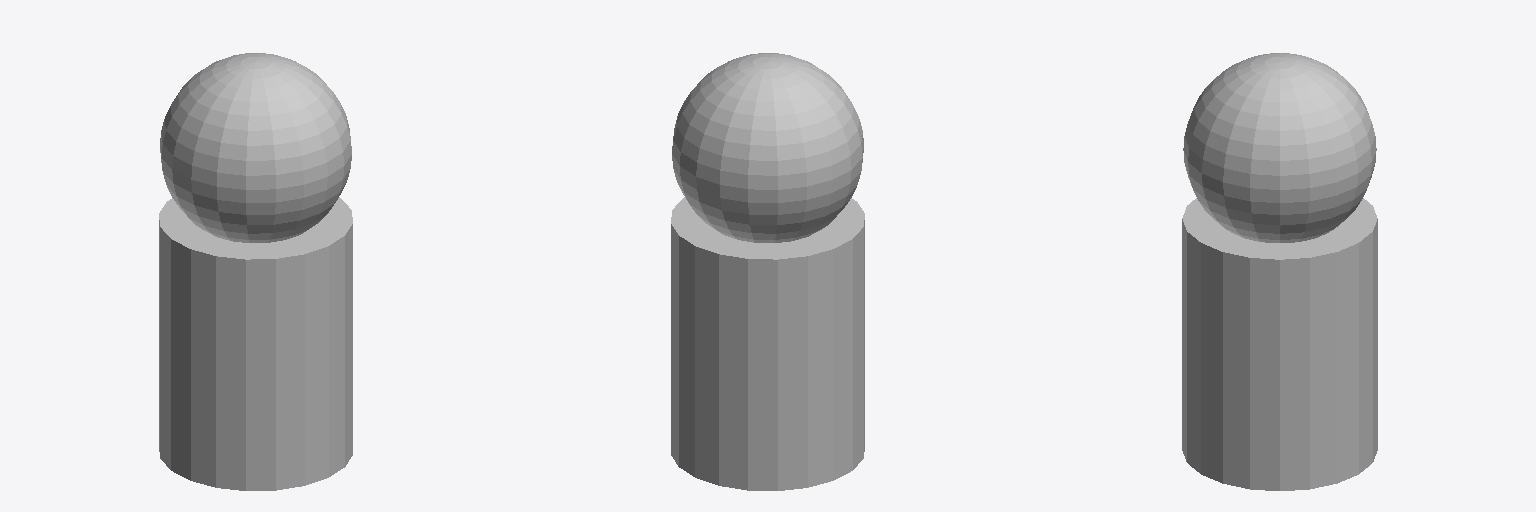
Rendered from Test_Agent.obj.
The picture shows the model from 3 angles: view 1: azimuth 30°, elevation 25°; view 2: azimuth 150°, elevation 25°; view 3: azimuth 270°, elevation 25°; orthographic projection.
Visible parts, largest first — view 1: pCylinder1, pSphere1; view 2: pCylinder1, pSphere1; view 3: pCylinder1, pSphere1.
Part boxes in pixels (x1,y1,x2,y2): pCylinder1: (159,197,352,490); pSphere1: (160,53,351,242); pCylinder1: (671,197,864,490); pSphere1: (672,53,863,242); pCylinder1: (1182,198,1377,490); pSphere1: (1183,53,1376,242).
Bounding box in the file's own units: 1.42 × 3.12 × 1.42.